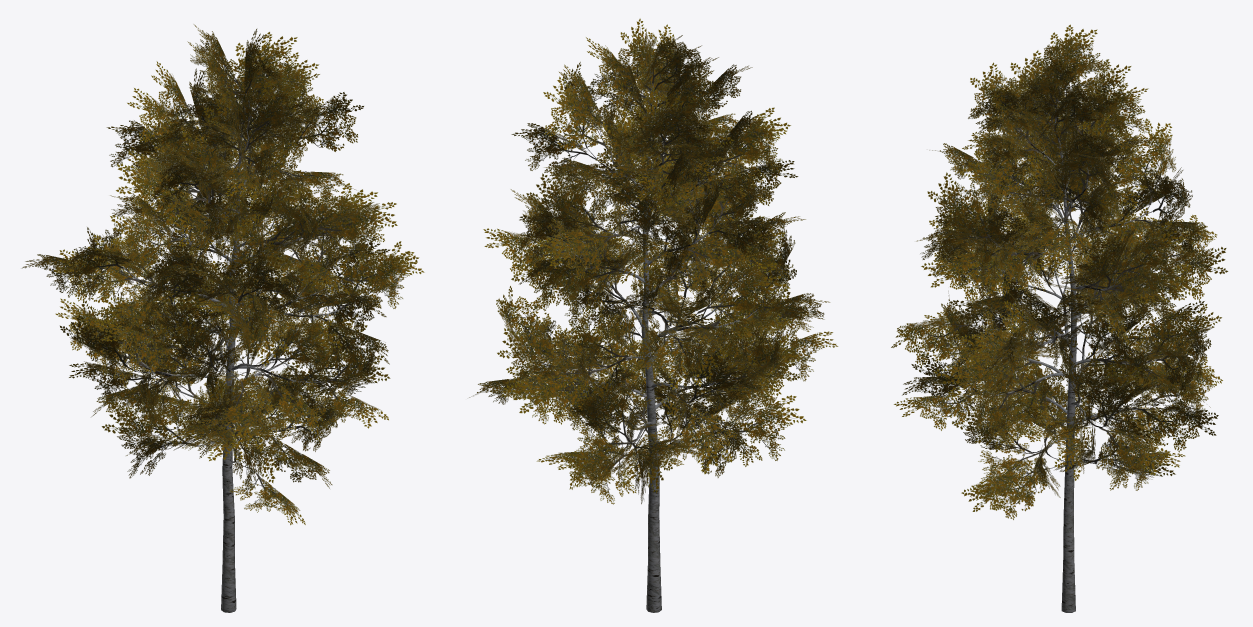
Rendered from tree2.glb.
3 views of the same model, side by side, from view 1: azimuth 30°, elevation 25°; view 2: azimuth 150°, elevation 25°; view 3: azimuth 270°, elevation 25° (orthographic).
Visible parts, largest first — view 1: tree018_1, tree018; view 2: tree018_1, tree018; view 3: tree018_1, tree018.
Part boxes in pixels (x1,y1,x2,y2): tree018_1: (21, 24, 424, 525); tree018: (120, 94, 340, 612); tree018_1: (469, 18, 838, 504); tree018: (565, 83, 756, 612); tree018_1: (891, 24, 1228, 519); tree018: (972, 104, 1165, 612).
Size of the model in its own units: 9.45 by 16.2 by 9.1.
2 materials, 2 textured.
